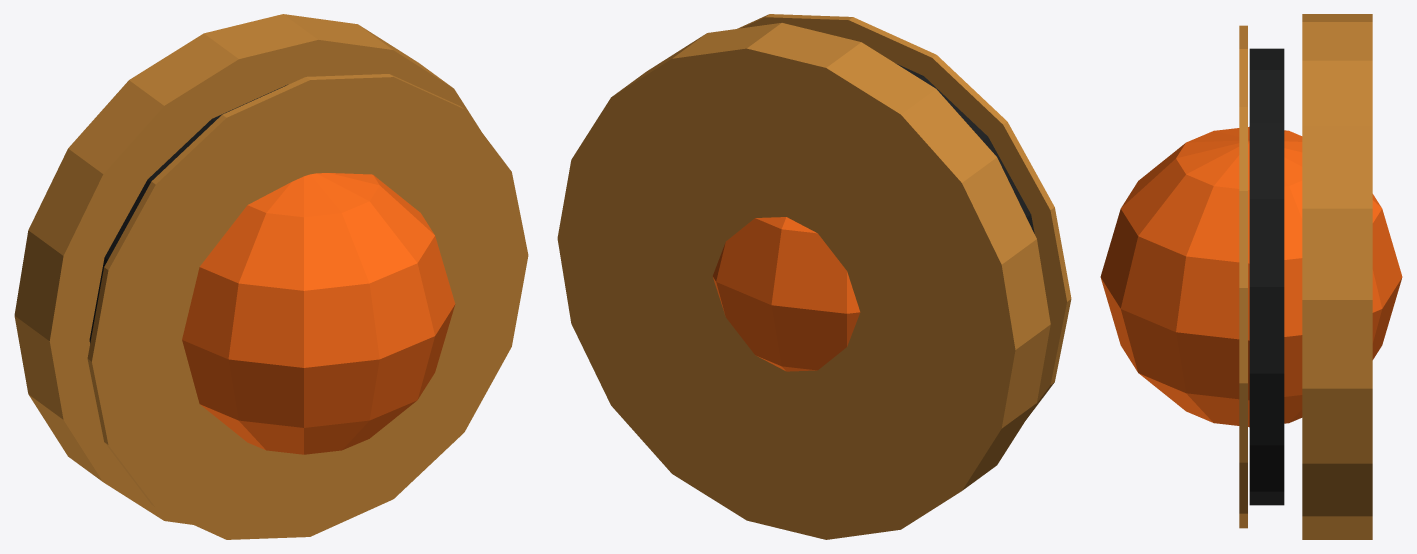
The model's file is PART_FurnaceCore_Blockout.obj.
The picture shows the model from 3 angles, left to right: view 1: azimuth 30°, elevation 25°; view 2: azimuth 150°, elevation 25°; view 3: azimuth 270°, elevation 25°; orthographic projection.
Parts seen in each view (by area): view 1: standalone_furnace_core_brass_lip, standalone_furnace_core_amber_glass, rear_mount_flange, standalone_furnace_core_iron_ring; view 2: rear_mount_flange, standalone_furnace_core_amber_glass, standalone_furnace_core_brass_lip, standalone_furnace_core_iron_ring; view 3: standalone_furnace_core_amber_glass, rear_mount_flange, standalone_furnace_core_iron_ring, standalone_furnace_core_brass_lip.
Part boxes in pixels (left/top/right/bottom): standalone_furnace_core_brass_lip: left=87, top=74, right=528, bottom=539; standalone_furnace_core_amber_glass: left=182, top=173, right=455, bottom=454; rear_mount_flange: left=14, top=14, right=480, bottom=524; standalone_furnace_core_iron_ring: left=89, top=84, right=287, bottom=343; rear_mount_flange: left=557, top=23, right=1050, bottom=539; standalone_furnace_core_amber_glass: left=712, top=217, right=860, bottom=371; standalone_furnace_core_brass_lip: left=737, top=14, right=1071, bottom=419; standalone_furnace_core_iron_ring: left=895, top=63, right=1034, bottom=233; standalone_furnace_core_amber_glass: left=1100, top=126, right=1402, bottom=427; rear_mount_flange: left=1302, top=14, right=1372, bottom=539; standalone_furnace_core_iron_ring: left=1249, top=48, right=1284, bottom=505; standalone_furnace_core_brass_lip: left=1239, top=25, right=1247, bottom=528.
Size of the model in its own units: 0.6 by 0.5909 by 0.3432.
